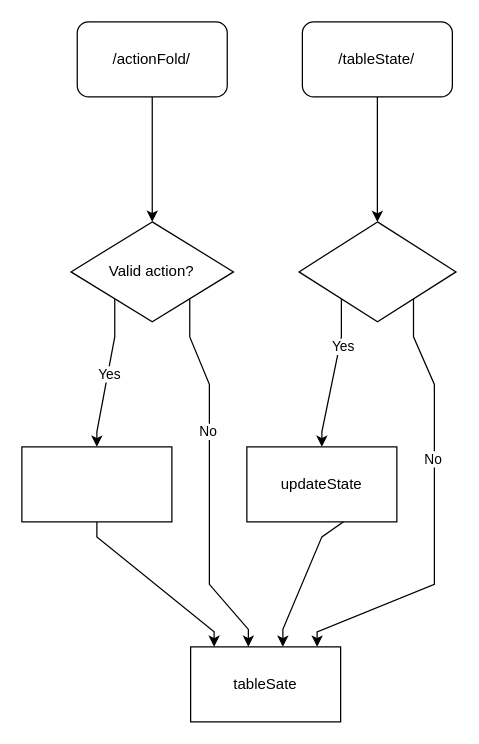
This 479x744 diagram has some shape labels left out. The centre of each missing label's shape, as x and y in pixels:
"Record action" goes at [96,484].
"stateUpdateTimer expired?" goes at [377,271].
